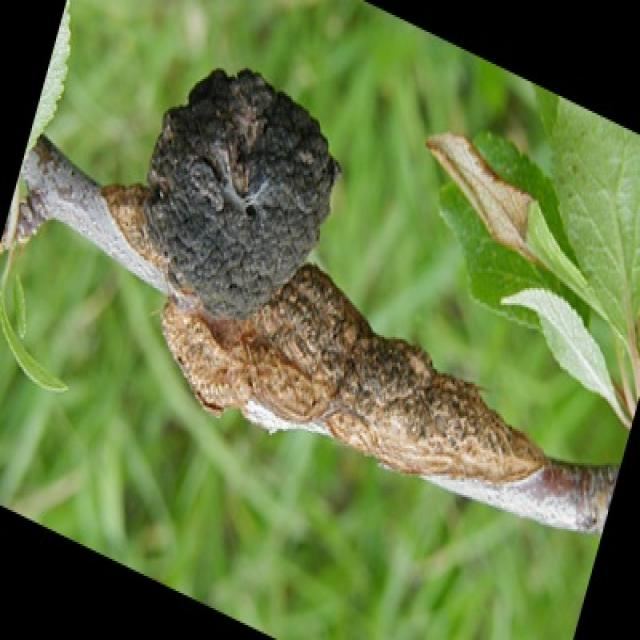Black_knot: (141, 62, 341, 320)
